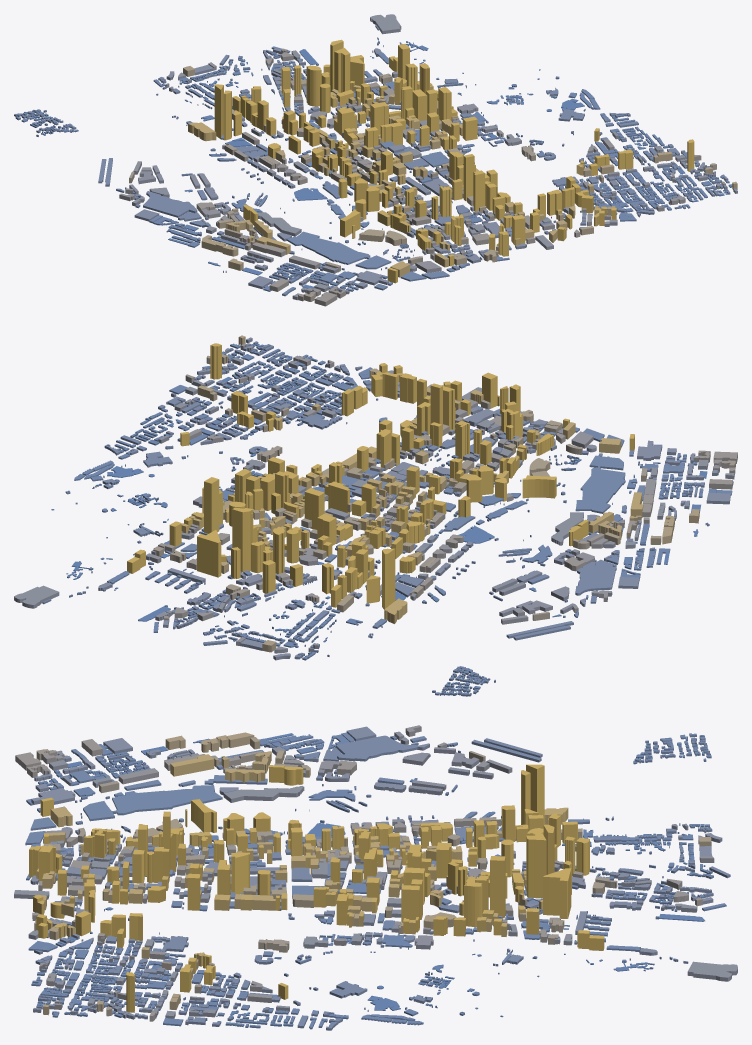
File: buildings.glb
3 views of the same model, one above another, from view 1: azimuth 30°, elevation 25°; view 2: azimuth 150°, elevation 25°; view 3: azimuth 270°, elevation 25° (orthographic). The views are drawn at different scales.
Visible parts, largest first — view 1: buildings; view 2: buildings; view 3: buildings.
Boxes of the visible parts, x1=… form: buildings: x1=14, y1=14, x2=737, y2=306; buildings: x1=14, y1=335, x2=737, y2=696; buildings: x1=14, y1=725, x2=737, y2=1030.
Size of the model in its own units: 2518 by 315 by 2586.
